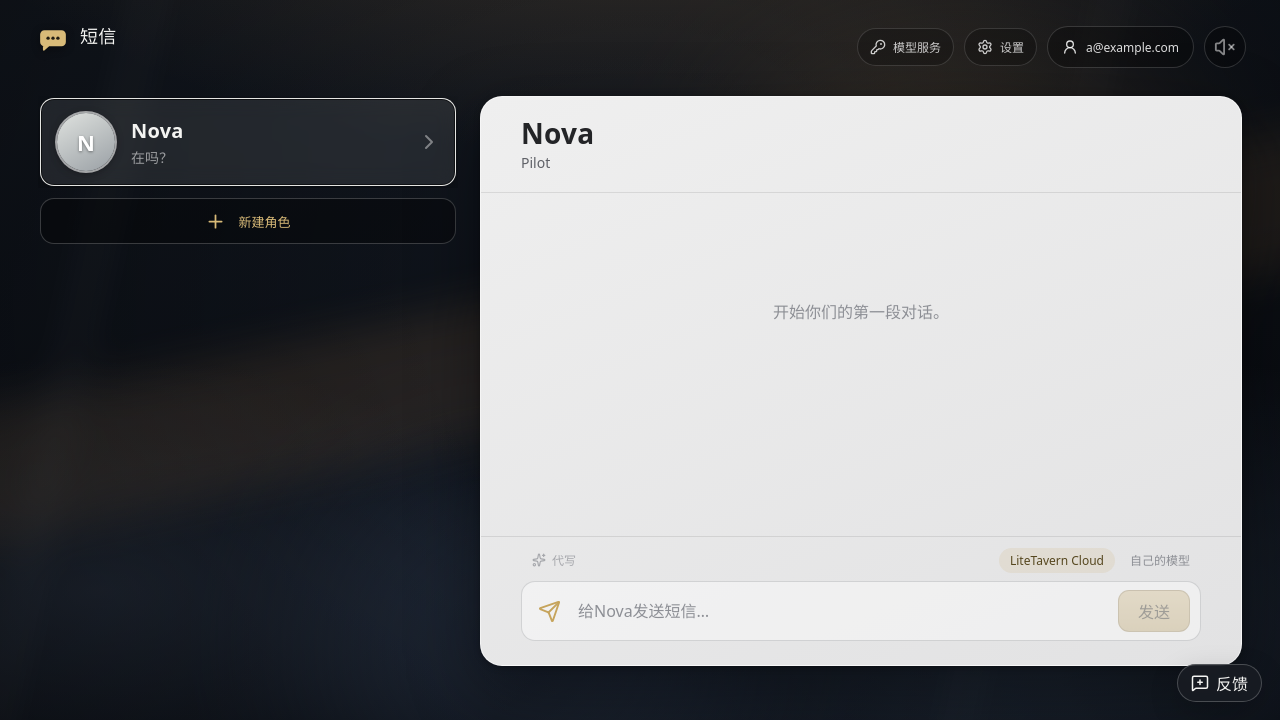
asks for suggestions after the reply lands, and shows them
The image size is (1280, 720).
Type "你还在医院吗？" into the text box with placeholder "Nova" at (841, 611), box [576,597,1106,625]
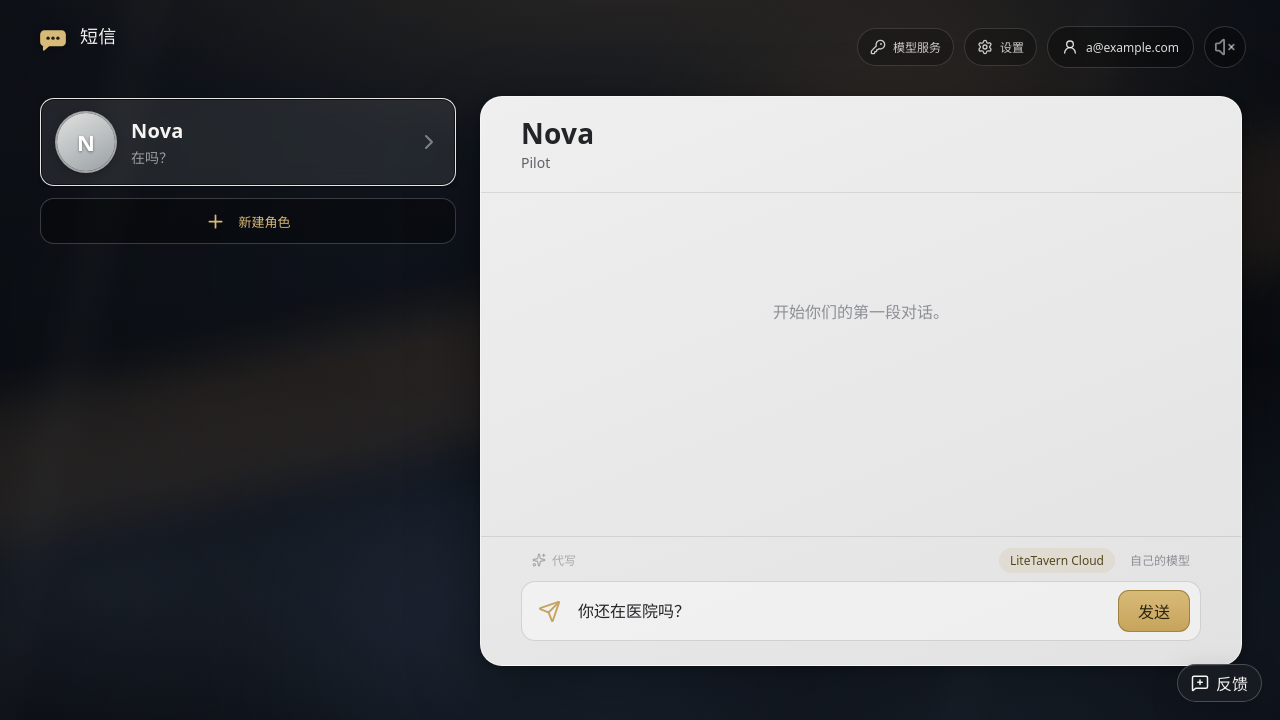
Check: the button "发送" is enabled
Click the button "发送" at (1154, 611), box [1118,590,1190,632]
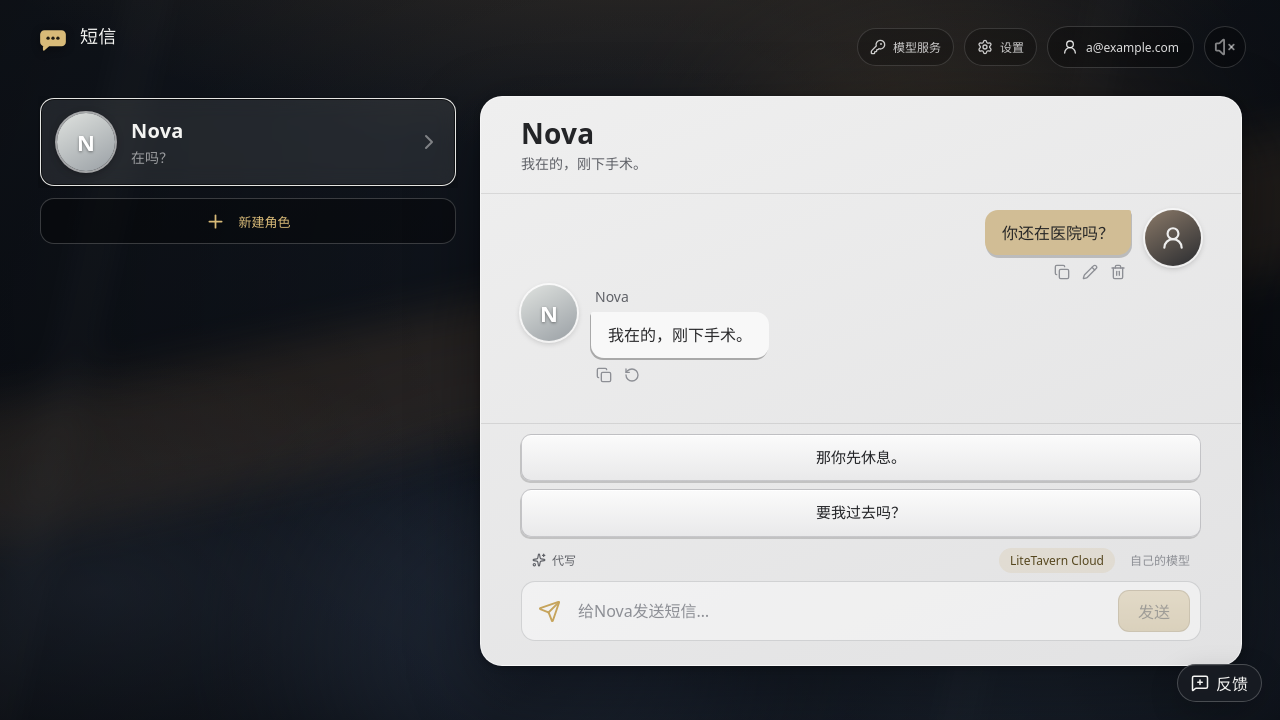
Check: the text "我在的，刚下手术。" below "你还在医院吗？" is shown, box [608,324,752,346]
Check: the button "那你先休息。" is shown, box [521,434,1201,481]
Check: the button "要我过去吗？" is shown, box [521,489,1201,537]
